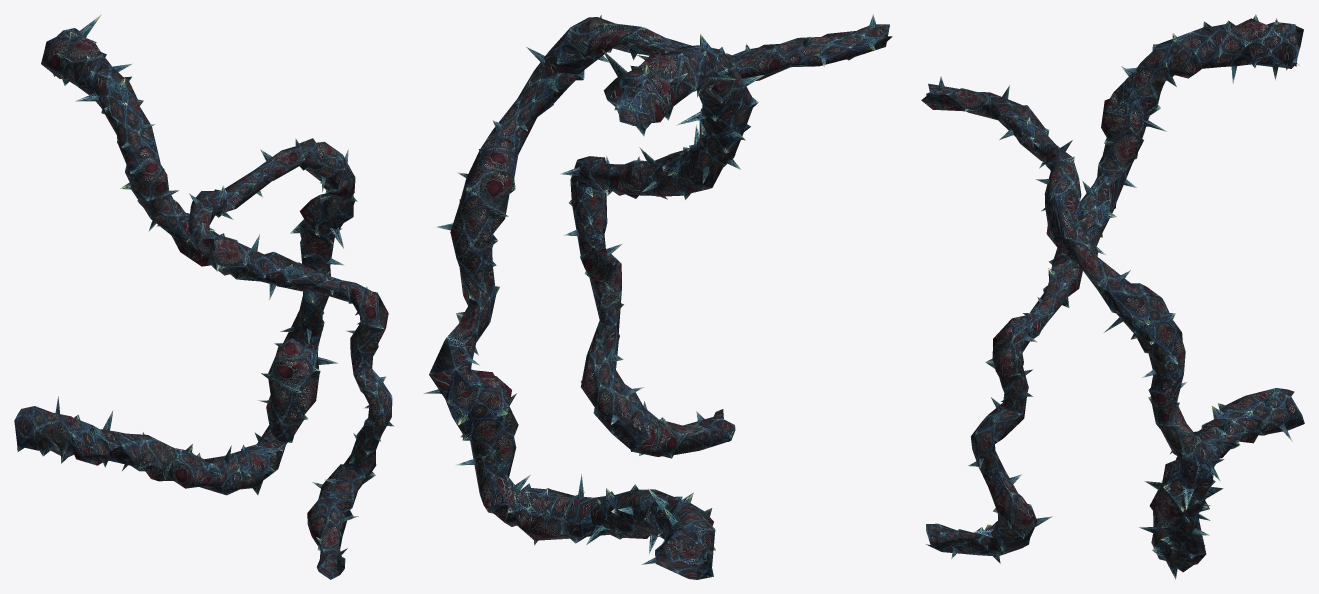
File: 02_16_makaizyu_07.fbx
The picture shows the model from 3 angles, left to right: view 1: azimuth 30°, elevation 25°; view 2: azimuth 150°, elevation 25°; view 3: azimuth 270°, elevation 25°; orthographic projection. The views are drawn at different scales.
Visible parts, largest first — view 1: LODGroup_3_MainMesh_1_SubMesh_1; view 2: LODGroup_3_MainMesh_1_SubMesh_1; view 3: LODGroup_3_MainMesh_1_SubMesh_1.
Boxes of the visible parts, bbox=[...] form: LODGroup_3_MainMesh_1_SubMesh_1: bbox=[14, 14, 394, 579]; LODGroup_3_MainMesh_1_SubMesh_1: bbox=[423, 14, 892, 579]; LODGroup_3_MainMesh_1_SubMesh_1: bbox=[921, 14, 1304, 579].
Size of the model in its own units: 839 by 1348 by 942.
